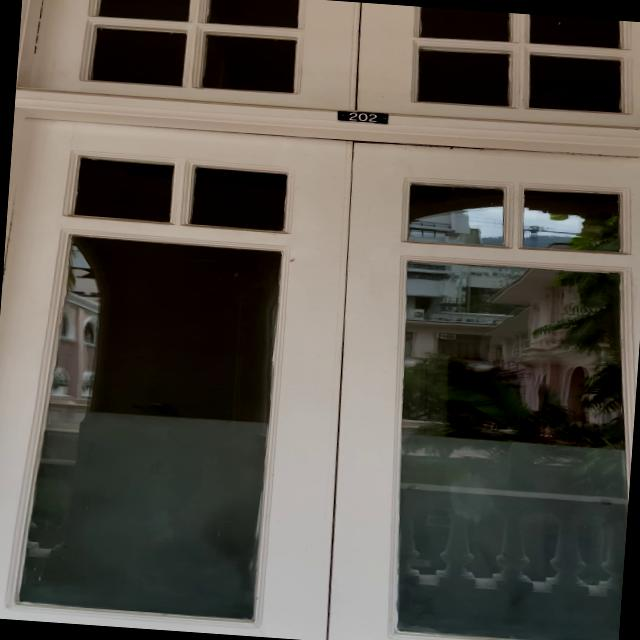room202: (332, 104, 392, 126)
